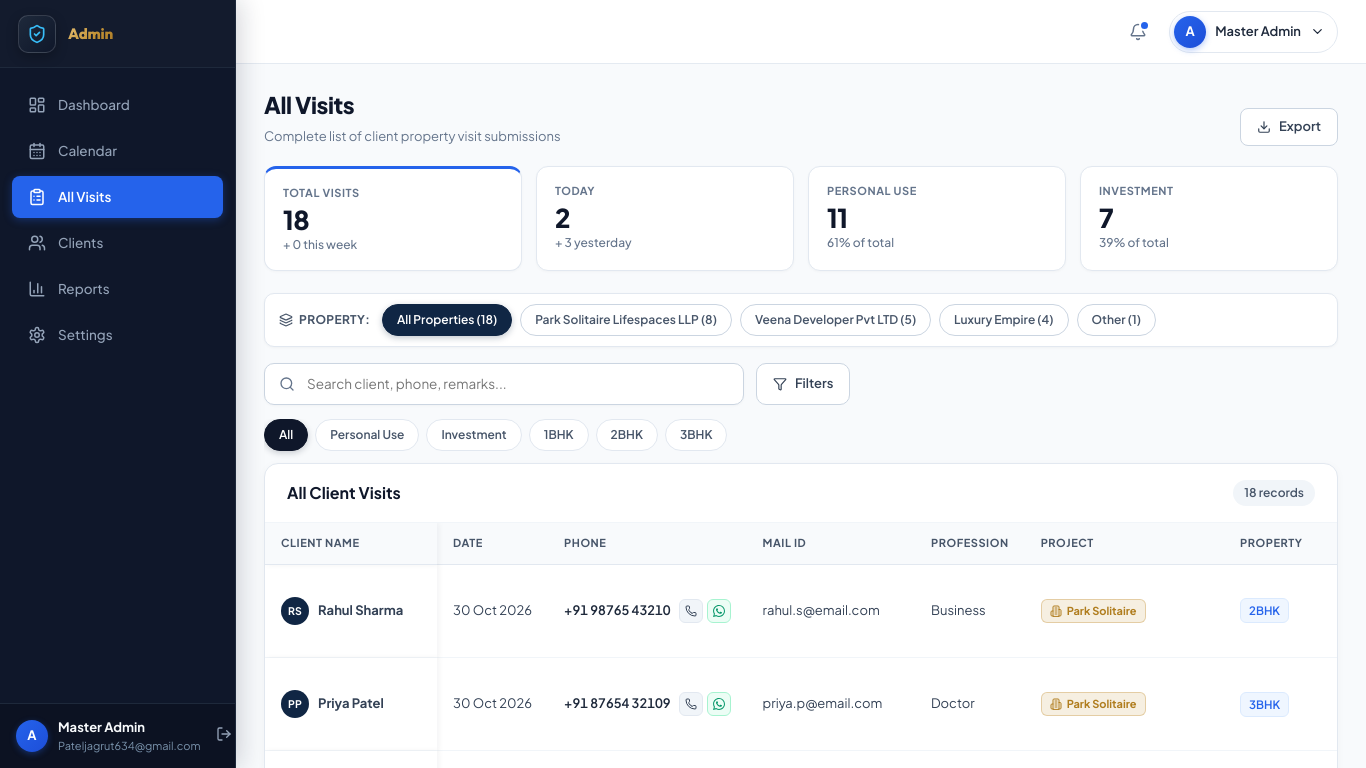
Test: Park Solitaire Client Visit App › Dashboard, All Visits, and Reports Views › renders shifted stats (Total Visits, Today, Personal Use, Investment) in All Visits view and filters visits
Check: the text "TOTAL VISITS" is shown, box [283, 186, 360, 199]
Check: the text "TODAY" is shown, box [555, 184, 595, 197]
Note: Search for specific seed visit
Step 1. Type "Sneha Reddy" into the field with placeholder "Search client, phone, remarks..." → (517, 384), box [305, 373, 729, 395]
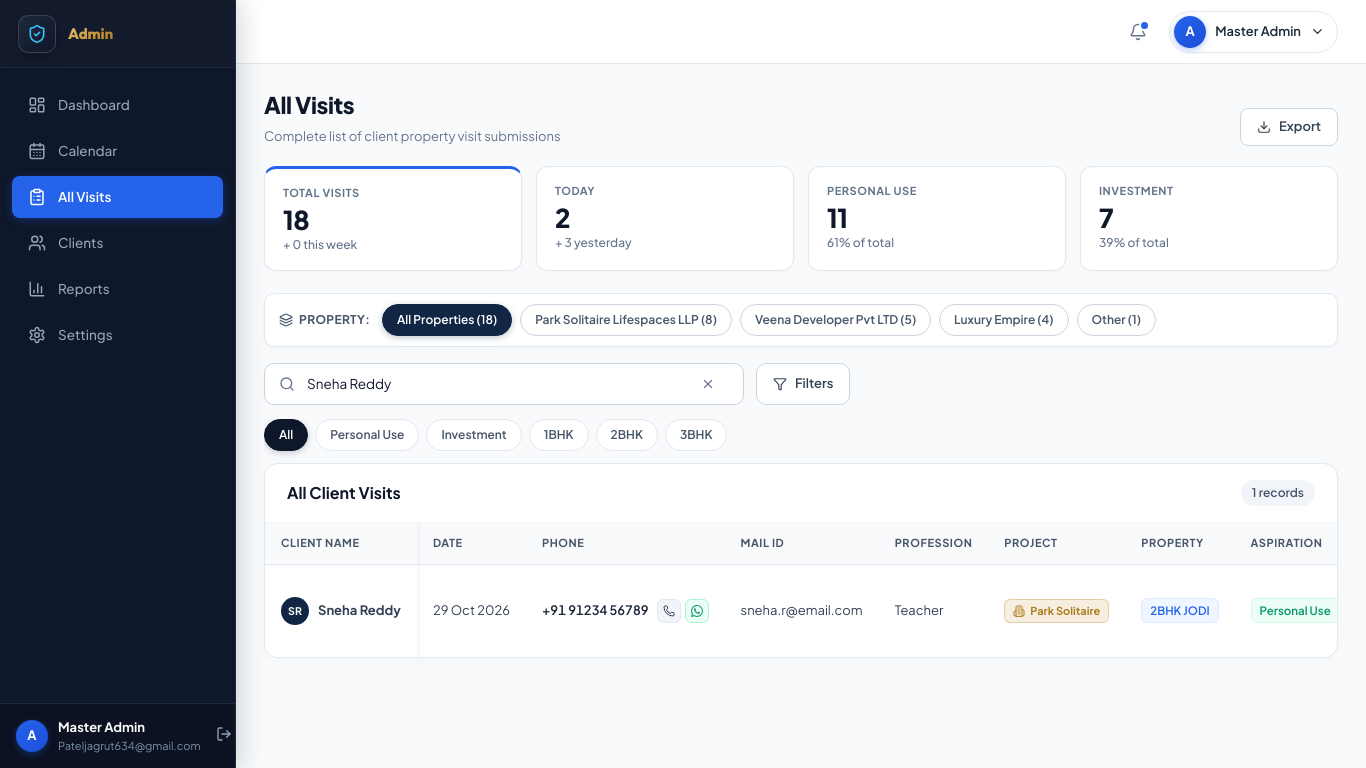
Check: the text "Sneha Reddy" is shown, box [318, 601, 401, 620]
Check: the text "Rahul Sharma" is gone
